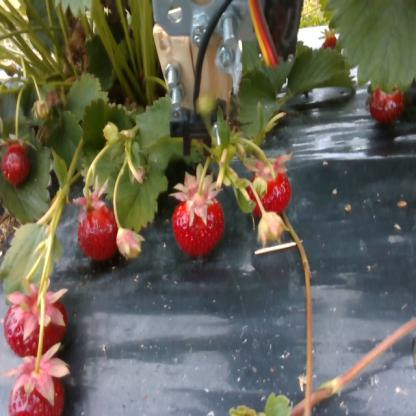ripe: (5, 352, 70, 416), (10, 288, 68, 355), (174, 192, 224, 256), (245, 159, 293, 222), (76, 203, 122, 266), (370, 77, 405, 122), (1, 145, 33, 186), (318, 36, 340, 63)
